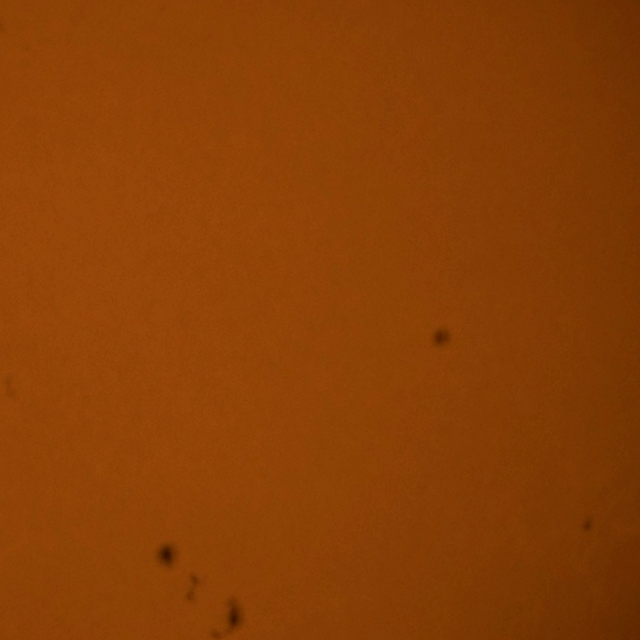sunspot: (182, 570, 201, 605), (154, 543, 177, 571), (431, 327, 452, 350)
